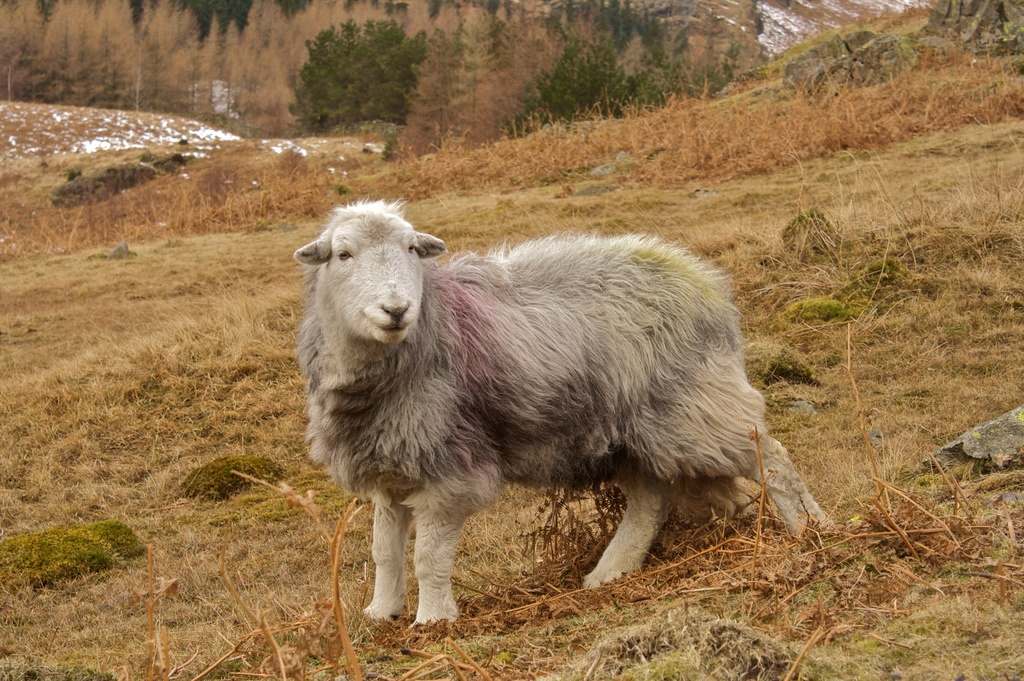sheep: (293, 193, 827, 627)
